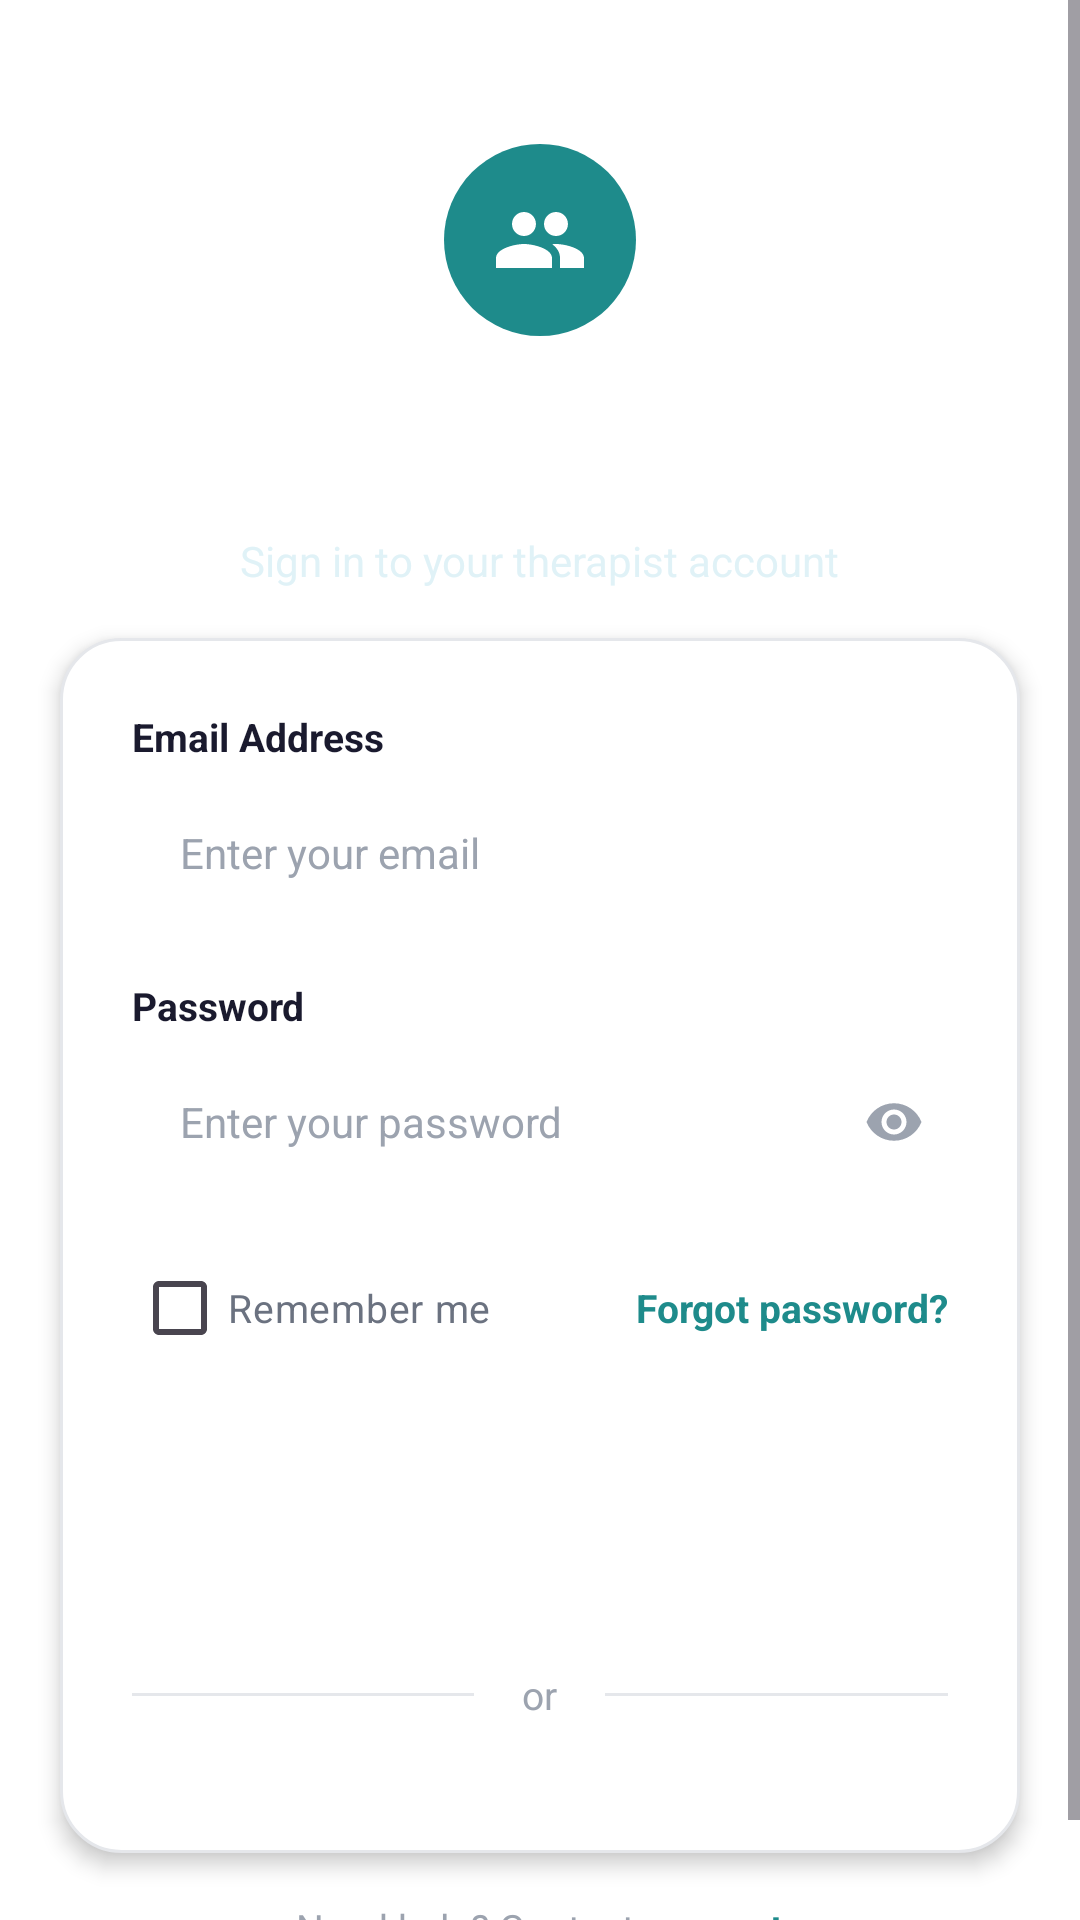

Where to tap for icons on this 1080 x 1920 app screen, as point (x, y):
Toggle password visibility: point (894, 1122)
